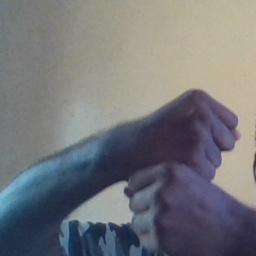G: (131, 86, 240, 255)
